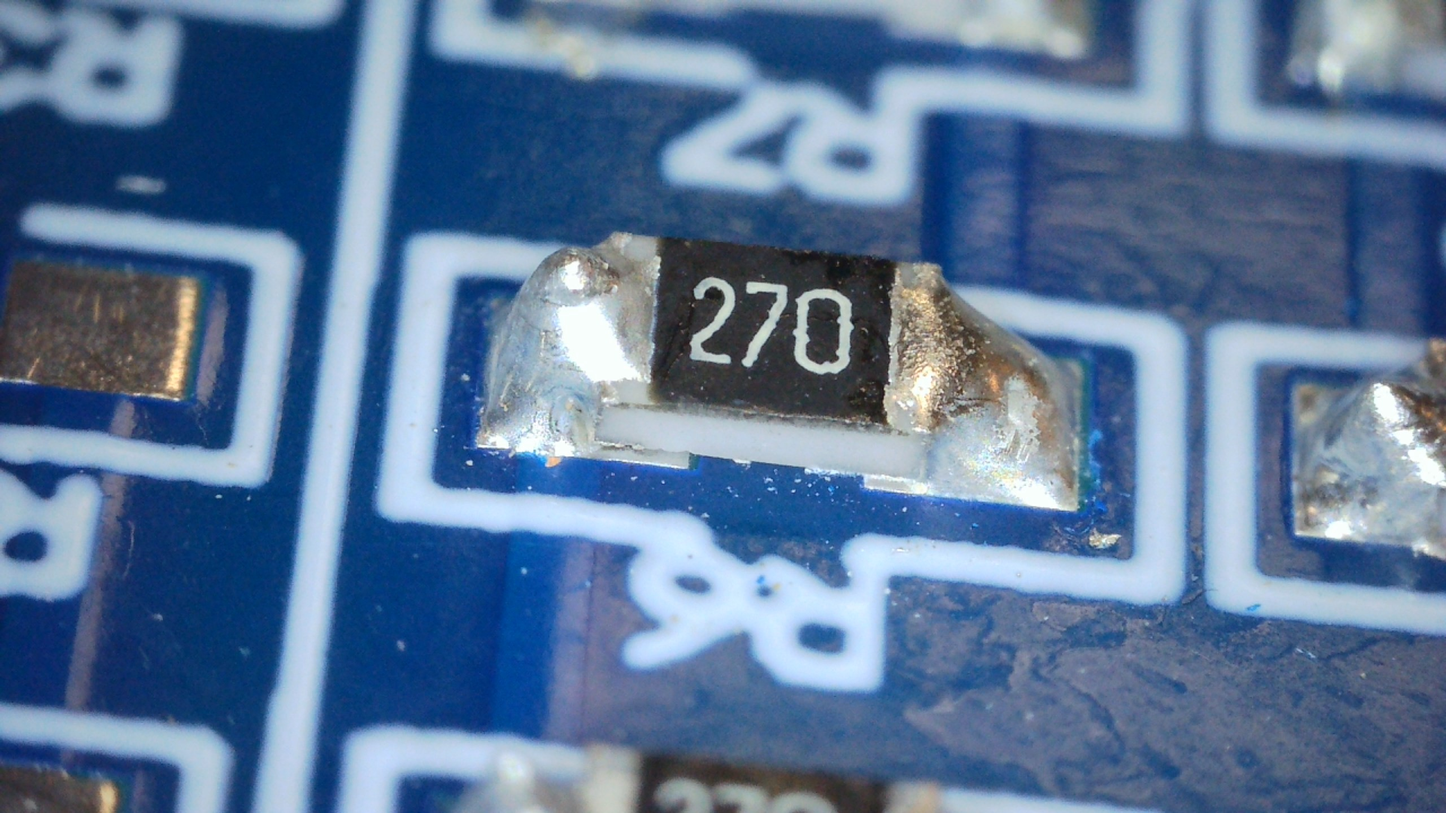NG: (885, 261, 1077, 508), (481, 247, 647, 458)
